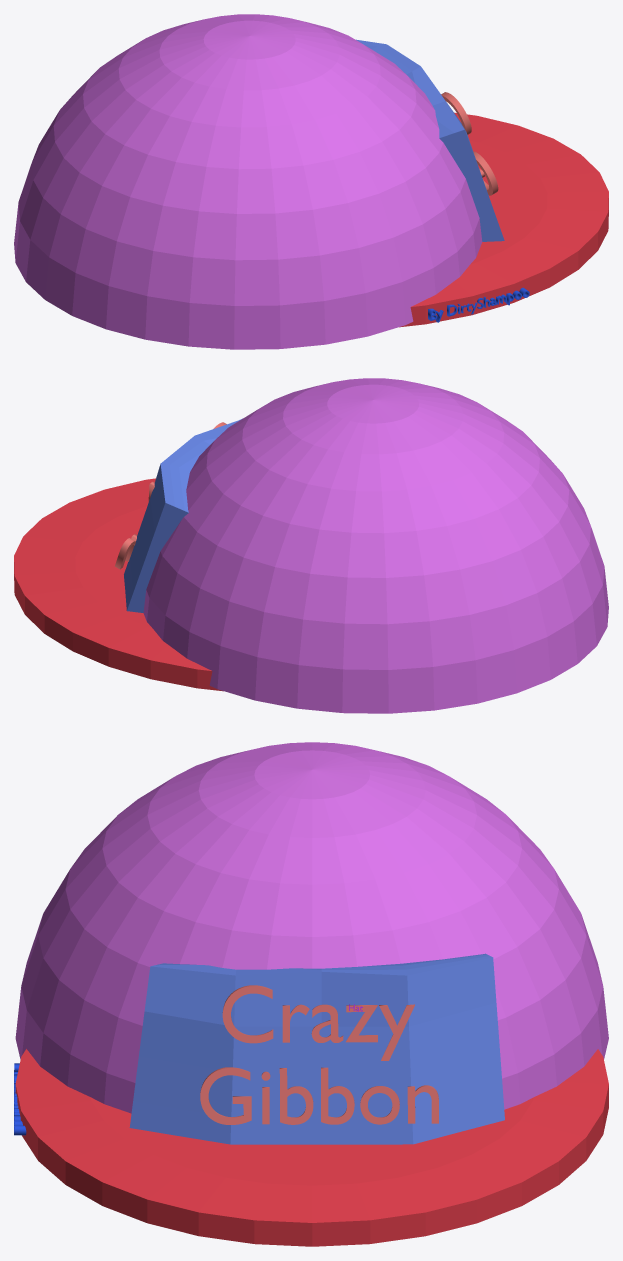
File: hat_gibbon.fbx
The picture shows the model from 3 angles, top to bottom: view 1: azimuth 30°, elevation 25°; view 2: azimuth 150°, elevation 25°; view 3: azimuth 270°, elevation 25°; orthographic projection. The views are drawn at different scales.
Parts seen in each view (by area): view 1: Sphere, Cylinder, Cube, Text, Text.002; view 2: Sphere, Cylinder, Cube, Text; view 3: Sphere, Cylinder, Cube, Text.
Part boxes in pixels (x1=…): Sphere: x1=14, y1=14, x2=482, y2=349; Cylinder: x1=399, y1=112, x2=608, y2=327; Cube: x1=356, y1=39, x2=504, y2=241; Text: x1=441, y1=92, x2=498, y2=195; Text.002: x1=428, y1=287, x2=529, y2=322; Sphere: x1=143, y1=378, x2=608, y2=713; Cylinder: x1=14, y1=478, x2=223, y2=691; Cube: x1=124, y1=418, x2=242, y2=612; Text: x1=114, y1=422, x2=226, y2=569; Sphere: x1=15, y1=742, x2=608, y2=1113; Cylinder: x1=15, y1=1049, x2=608, y2=1246; Cube: x1=129, y1=953, x2=504, y2=1144; Text: x1=200, y1=985, x2=438, y2=1124.
Size of the model in its own units: 262 by 103 by 201.
